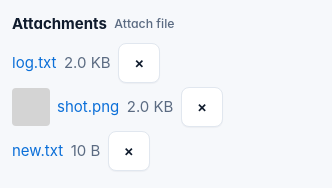
Test: IssueAttachments › lists, uploads and removes files
Earlier steps of the test are not shown.
Expected: the text "2.0 KB" is shown 2 times, [64,51,111,75]; [127,95,174,119]
Expected: the link "new.txt" is shown, [12,139,63,163]
Click the button named "Remove log.txt": click(139, 63) [118,43,160,83]
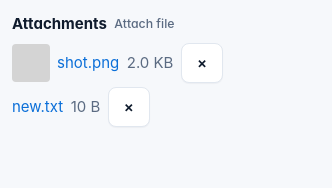
Result: the link "log.txt" is gone
